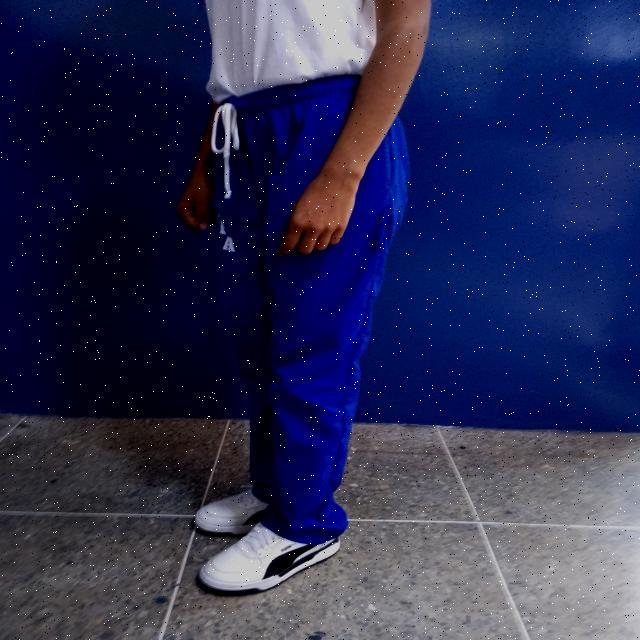uniforme_superior: (211, 73, 413, 546)
